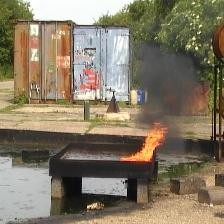fire: (122, 121, 168, 162)
